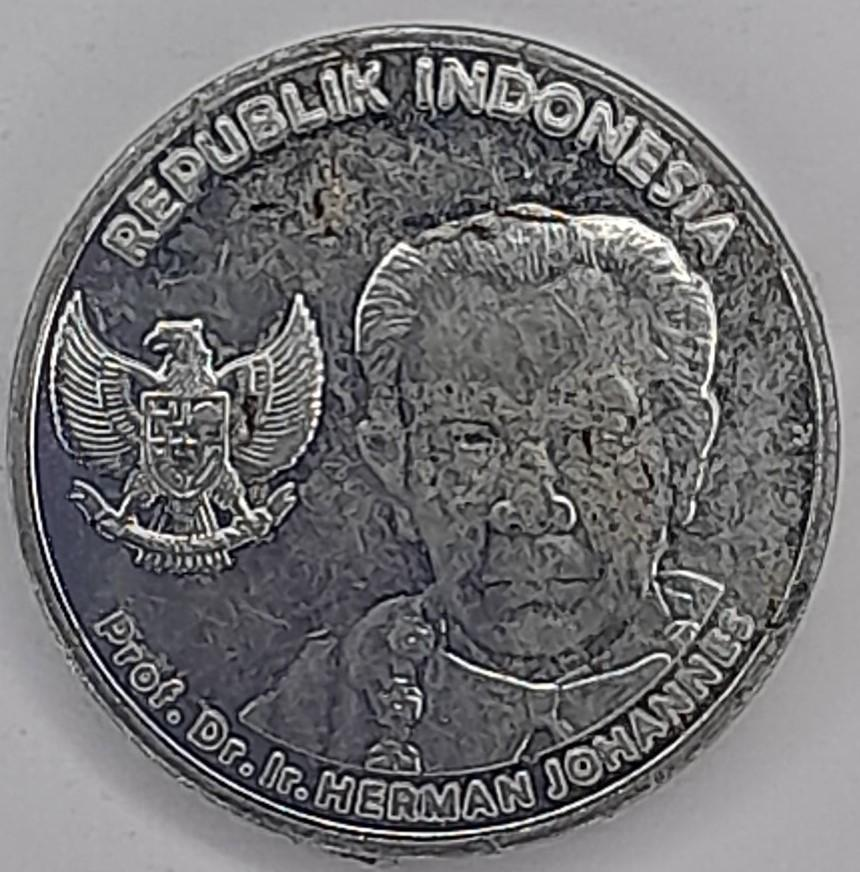coin_100_e2016: (1, 18, 846, 865)
